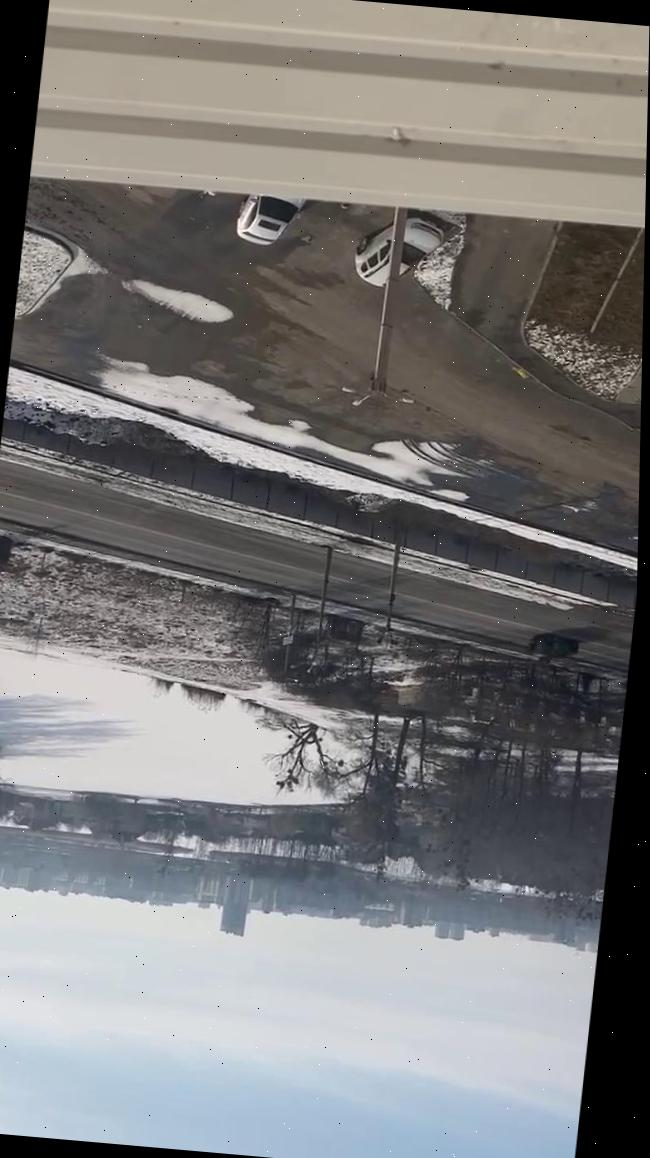armored_car: (526, 632, 581, 666)
car: (351, 210, 447, 293), (232, 192, 307, 250)
